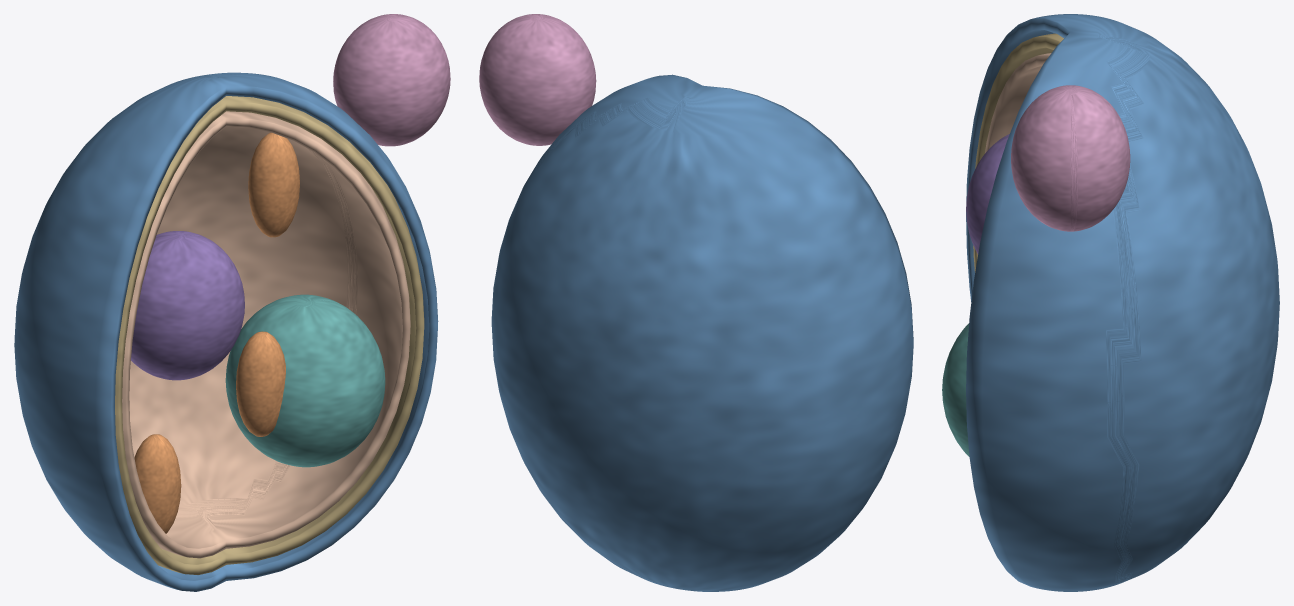
Rendered from cutaway.glb.
3 views of the same model, side by side, from view 1: azimuth 30°, elevation 25°; view 2: azimuth 150°, elevation 25°; view 3: azimuth 270°, elevation 25° (orthographic). The views are drawn at different scales.
Parts seen in each view (by area): view 1: citoplasma_mesh, parede_mesh, vacuolo_mesh, membrana_mesh, nucleo_mesh, broto_mesh, mitocondrias_mesh; view 2: parede_mesh, broto_mesh; view 3: parede_mesh, broto_mesh, vacuolo_mesh, membrana_mesh, citoplasma_mesh, nucleo_mesh.
Part boxes in pixels (bbox=[...]): citoplasma_mesh: bbox=[122, 111, 410, 558]; parede_mesh: bbox=[14, 72, 438, 591]; vacuolo_mesh: bbox=[225, 294, 385, 467]; membrana_mesh: bbox=[115, 96, 424, 574]; nucleo_mesh: bbox=[131, 231, 244, 380]; broto_mesh: bbox=[333, 14, 450, 146]; mitocondrias_mesh: bbox=[134, 132, 299, 533]; parede_mesh: bbox=[491, 74, 913, 591]; broto_mesh: bbox=[479, 14, 596, 145]; parede_mesh: bbox=[966, 14, 1279, 591]; broto_mesh: bbox=[1011, 85, 1130, 231]; vacuolo_mesh: bbox=[942, 323, 969, 456]; membrana_mesh: bbox=[973, 33, 1063, 272]; citoplasma_mesh: bbox=[985, 53, 1051, 153]; nucleo_mesh: bbox=[966, 134, 1009, 254].
Bounding box in the file's own units: 1.72 × 2.11 × 1.13.
Materials: 7 (7 with a texture image).
